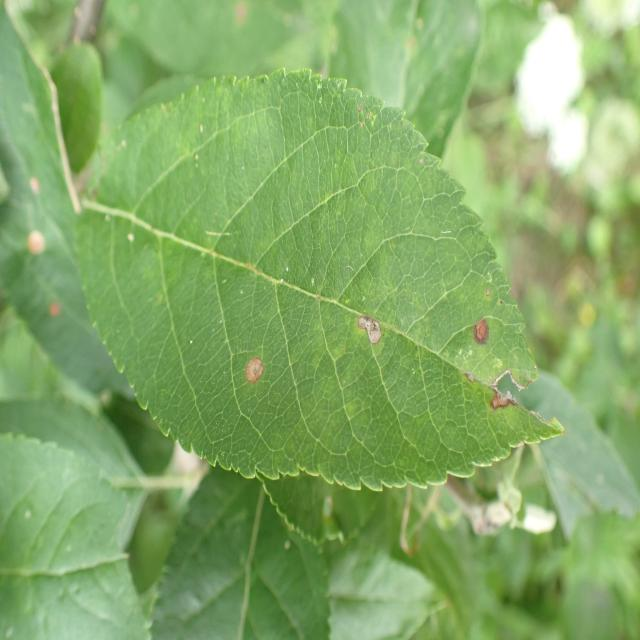Black Rot: (472, 356, 549, 437), (218, 336, 276, 399), (349, 290, 394, 363), (469, 298, 494, 354)
